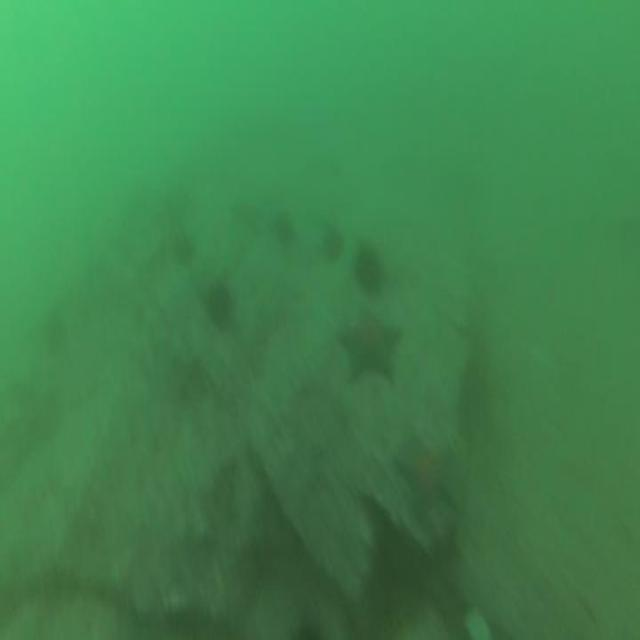echinus: (356, 248, 383, 294), (210, 284, 232, 328), (324, 228, 343, 259)
starfish: (396, 441, 458, 517), (338, 314, 400, 386)
